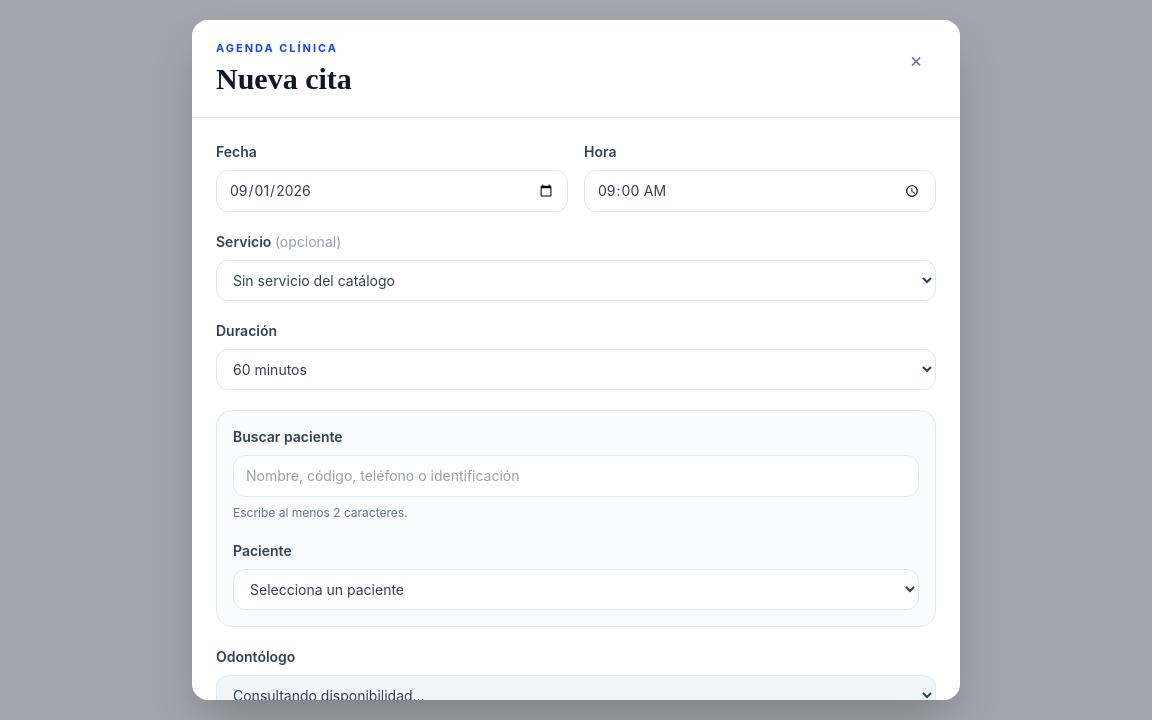
AppointmentFormPanel patient search › shows a patient-specific API error without closing the form
The image size is (1152, 720).
Type "Error" into the search field labelled "Buscar paciente".
click(576, 476); type("Error")  # box [233,455,919,497]
Wait 300 ms
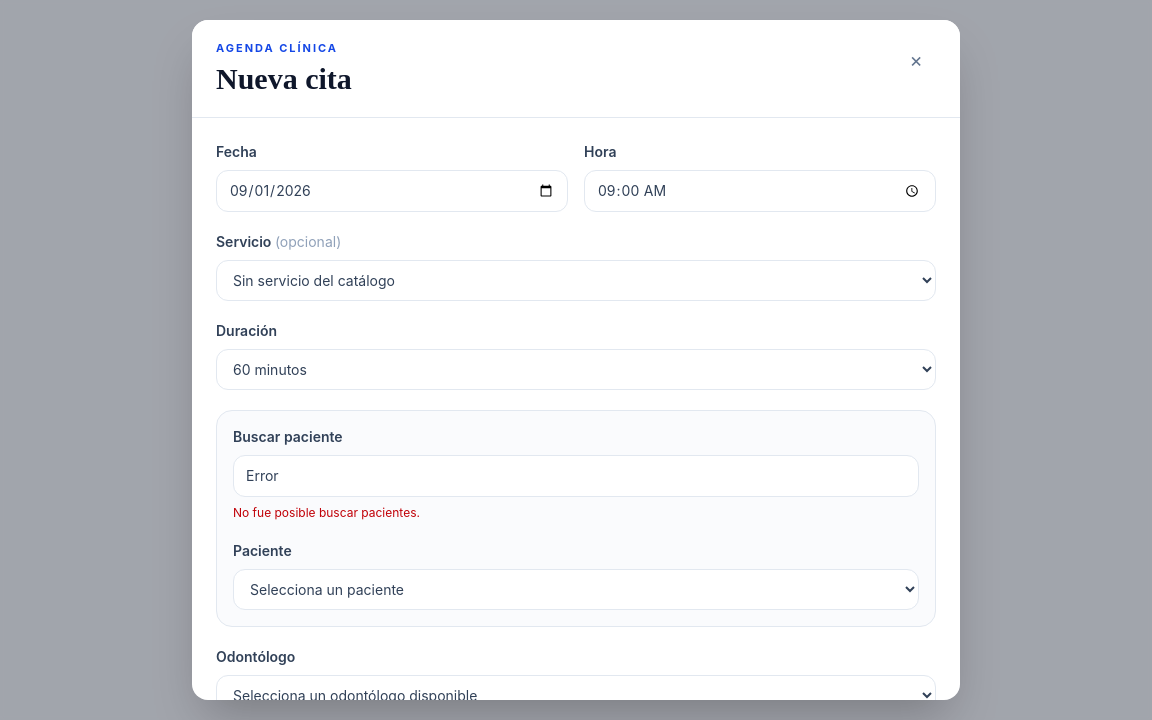
Check: the message reads "No fue posible buscar pacientes.", box [233,505,420,520]
